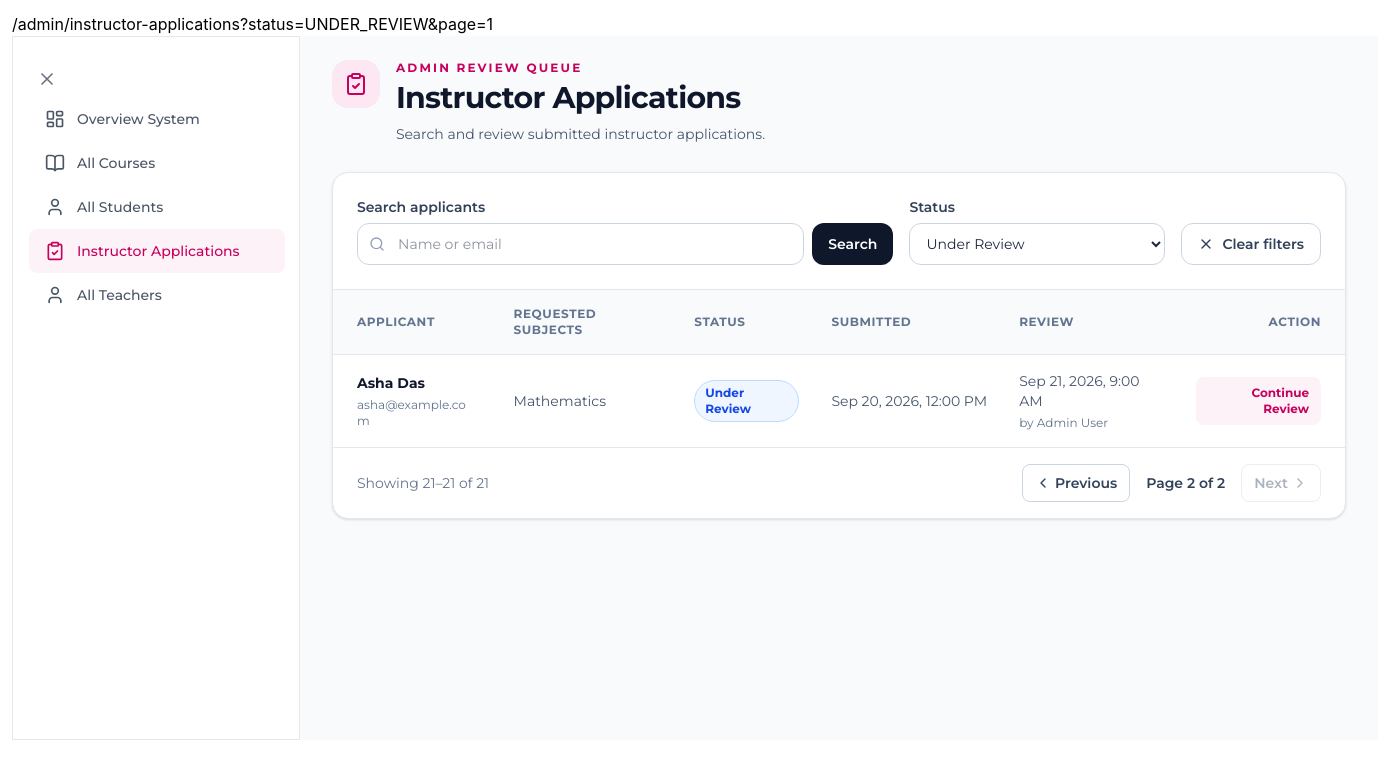
Test case: Instructor applications list › navigates with the application ID and returns to the filtered list
Click the link "Continue Review" at (1258, 401), box [1196,377,1321,425]
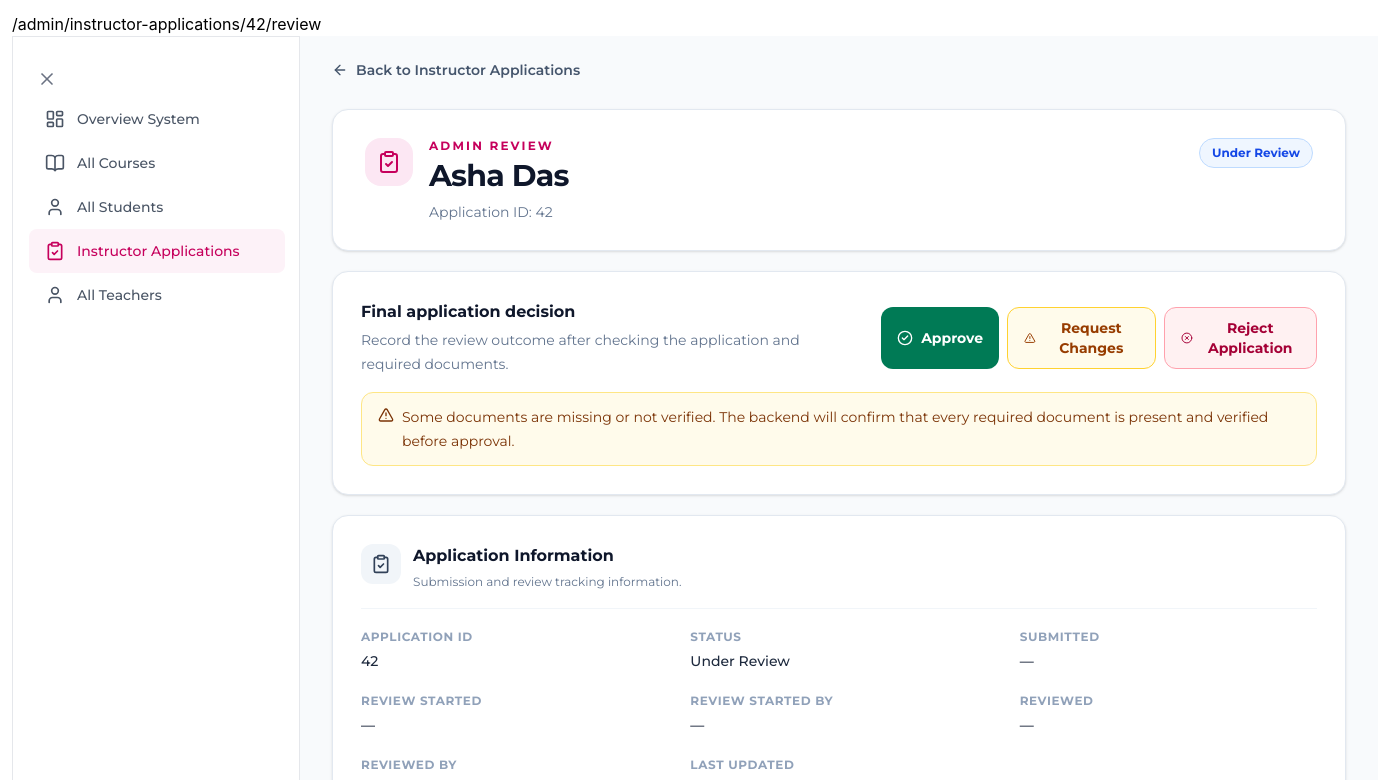
Now the text "Application ID: 42" is shown, box [429,202,569,222]
Click the link "Back to Instructor Applications" at (456, 70), box [332,60,580,80]
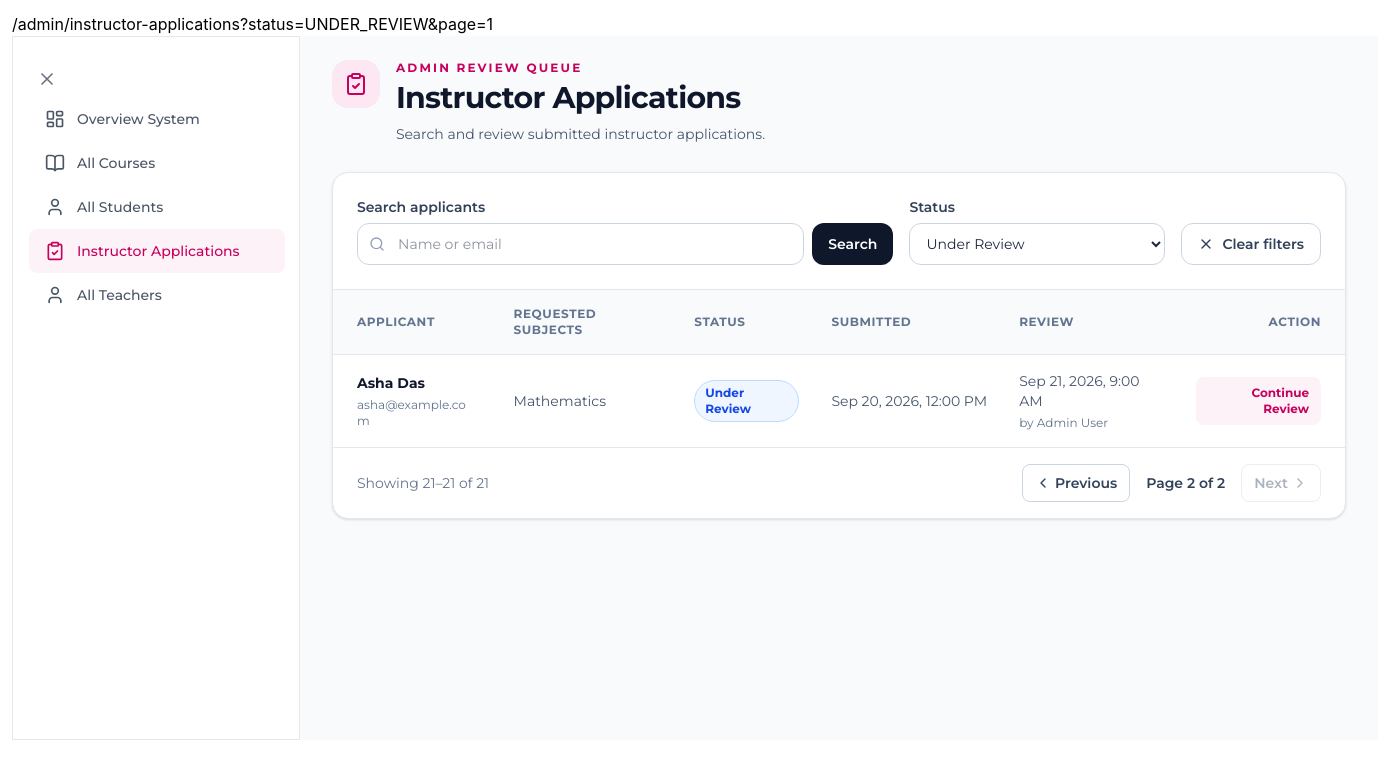
Now the text with test id "location" shows "status=UNDER_REVIEW&page=1", box [240,14,493,34]
